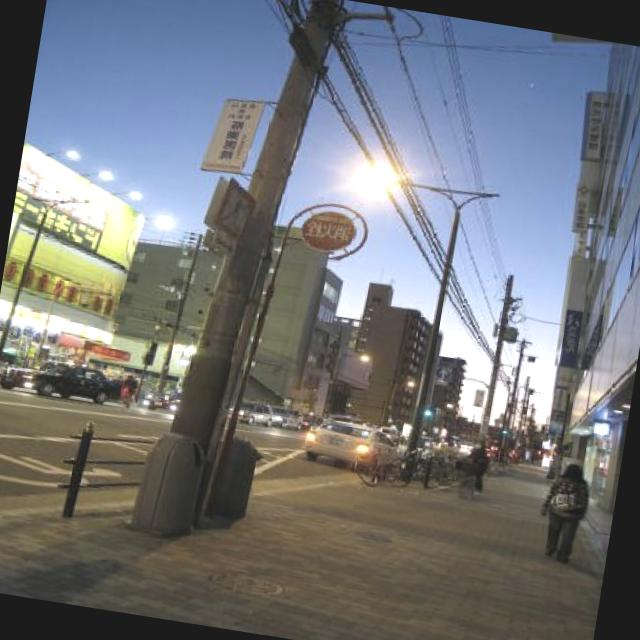Person: (535, 459, 596, 566), (458, 436, 494, 495), (120, 372, 144, 409), (94, 374, 98, 379)
